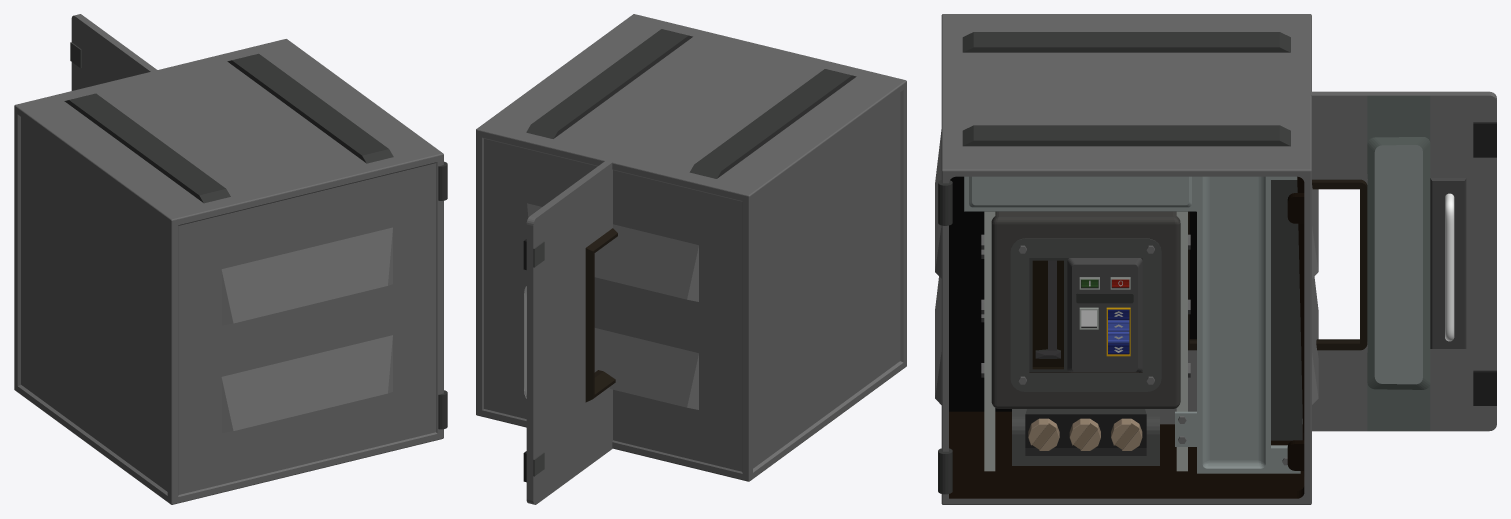
File: CircuitBreakerHeavy.fbx
3 renders of one model, left to right at view 1: azimuth 30°, elevation 25°; view 2: azimuth 150°, elevation 25°; view 3: azimuth 270°, elevation 25°, orthographic. The views are drawn at different scales.
Parts seen in each view (by area): view 1: HeavyBreaker_BuildState0, HeavyBreaker_Door; view 2: HeavyBreaker_BuildState0, HeavyBreaker_Door; view 3: HeavyBreaker_BuildState0, HeavyBreaker_Door, HeavyBreaker_BuildState1.
Part boxes in pixels (<box>): HeavyBreaker_BuildState0: <box>14,39,447,504</box>; HeavyBreaker_Door: <box>70,14,232,126</box>; HeavyBreaker_BuildState0: <box>476,14,906,481</box>; HeavyBreaker_Door: <box>523,105,686,504</box>; HeavyBreaker_BuildState0: <box>935,14,1318,504</box>; HeavyBreaker_Door: <box>1135,91,1496,431</box>; HeavyBreaker_BuildState1: <box>949,14,1310,498</box>.
Bounding box in the file's own units: 101 × 102 × 152.
